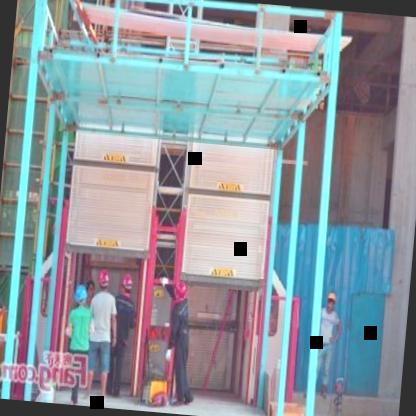helmet: (172, 275, 194, 307), (116, 270, 138, 301), (92, 268, 113, 295), (72, 281, 91, 310), (322, 290, 338, 314)
